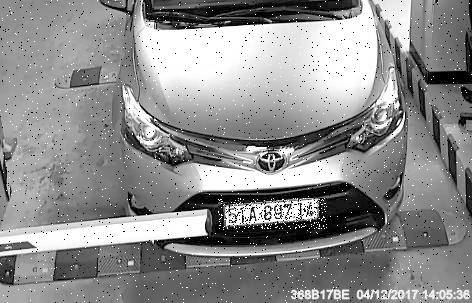License-plate: (220, 200, 329, 231)
